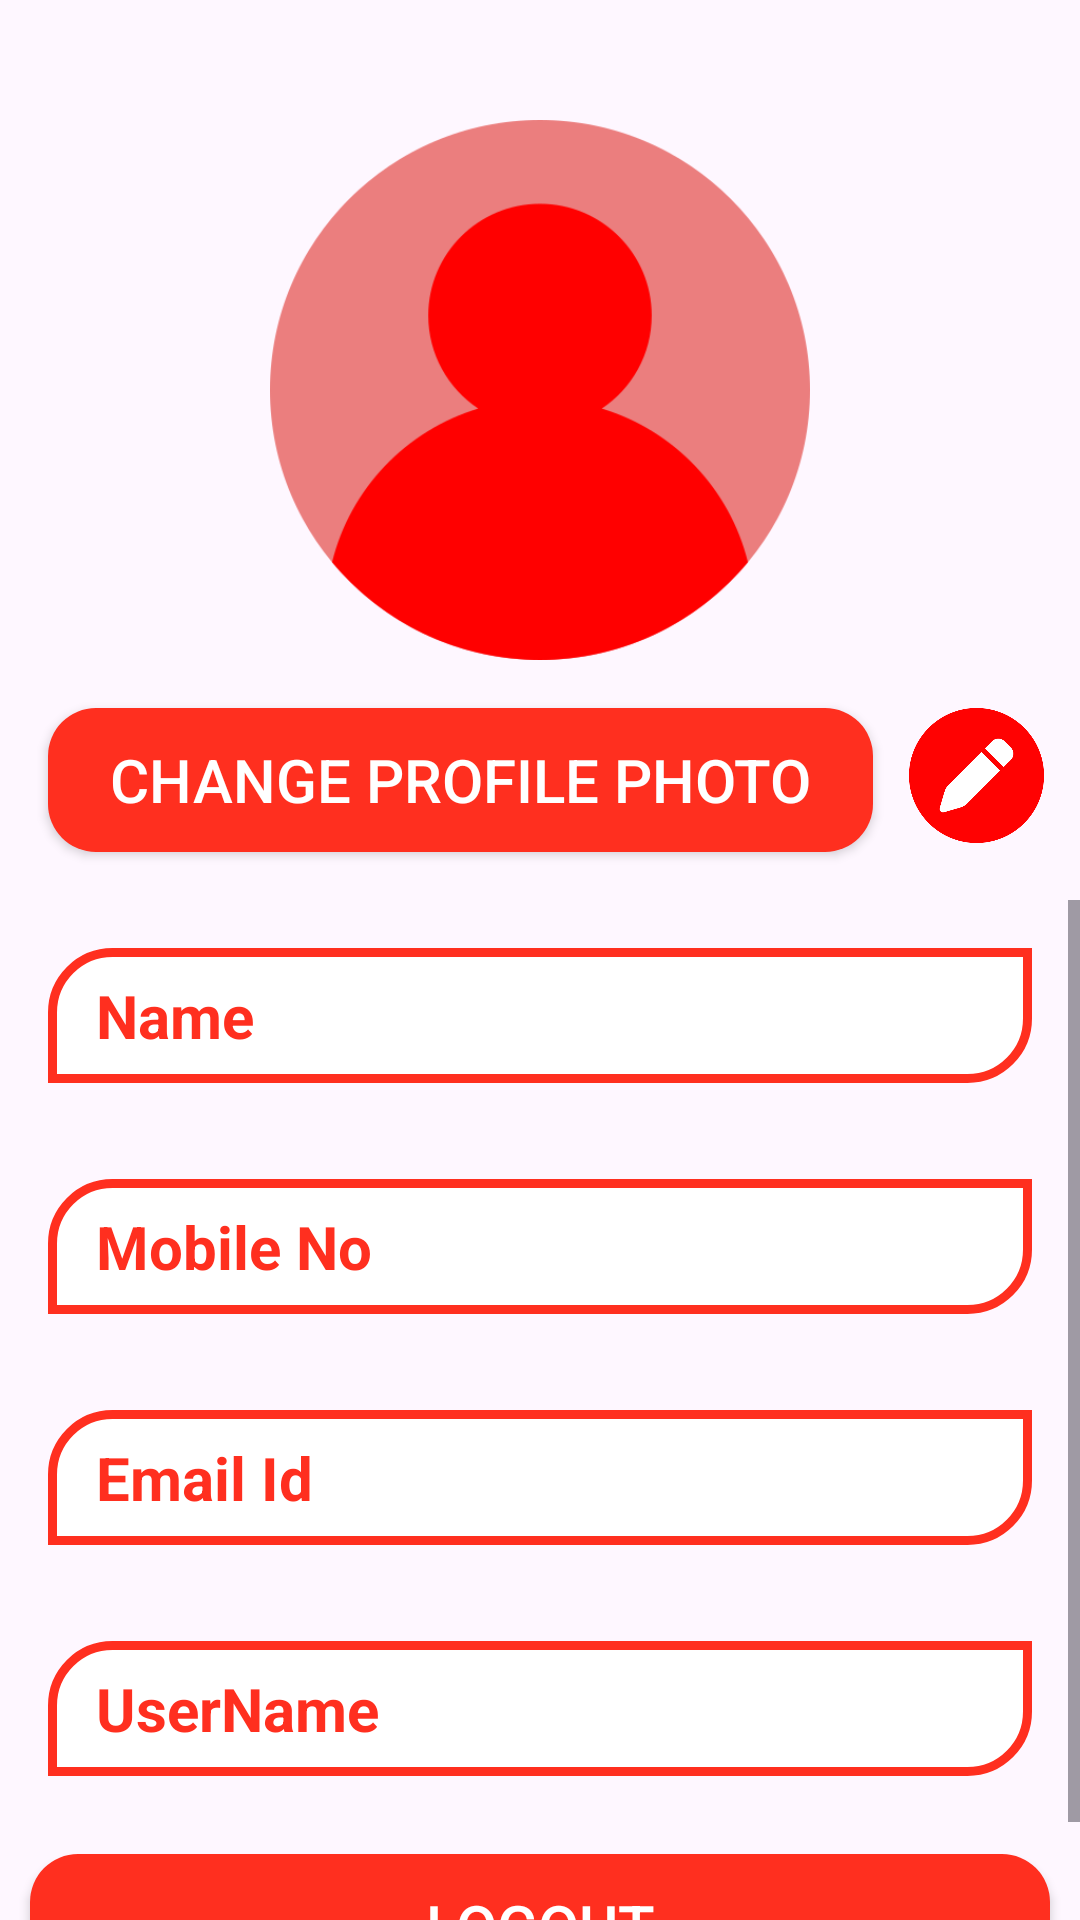

Icons on this 1080px×1920px Android screen, each with its box as {"left": x1, "top": y1, "right": x2, "bottom": y2}:
edit: {"left": 909, "top": 708, "right": 1044, "bottom": 843}
